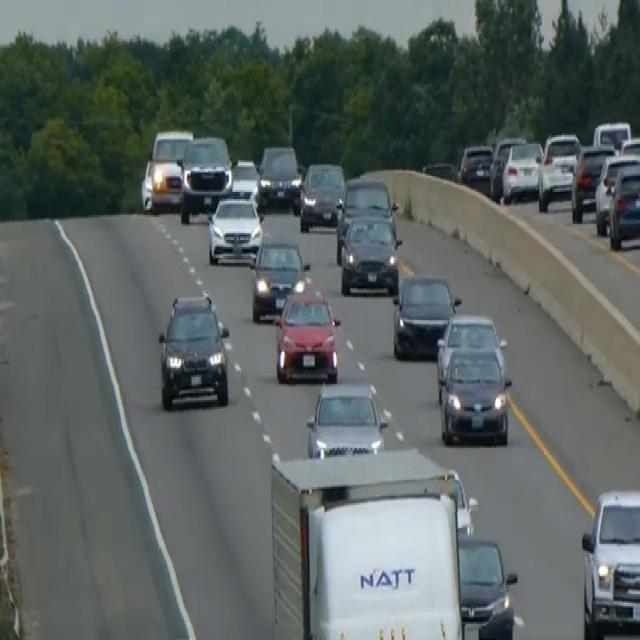car: (434, 311, 512, 446), (580, 486, 639, 638), (273, 276, 341, 384), (305, 377, 392, 457), (456, 532, 518, 638), (391, 270, 459, 359), (339, 210, 401, 297), (334, 175, 396, 262), (249, 235, 309, 322), (178, 132, 232, 220), (140, 126, 193, 212), (206, 192, 263, 265), (537, 130, 581, 210), (570, 142, 614, 222), (298, 158, 345, 231), (257, 140, 300, 208), (607, 160, 639, 251), (501, 138, 543, 202), (489, 133, 526, 199), (229, 154, 264, 212), (458, 140, 493, 192), (592, 117, 631, 151), (619, 133, 639, 162)
jeep: (155, 286, 232, 412)
lorry: (267, 444, 517, 638)
